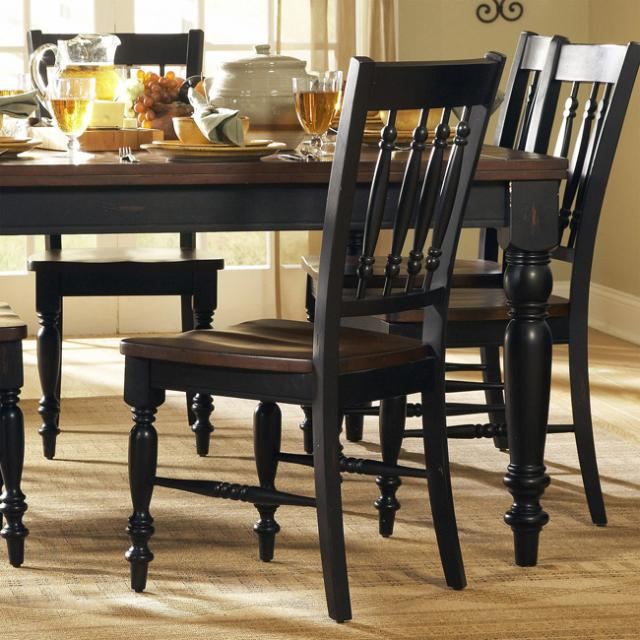chair: (119, 50, 506, 622)
